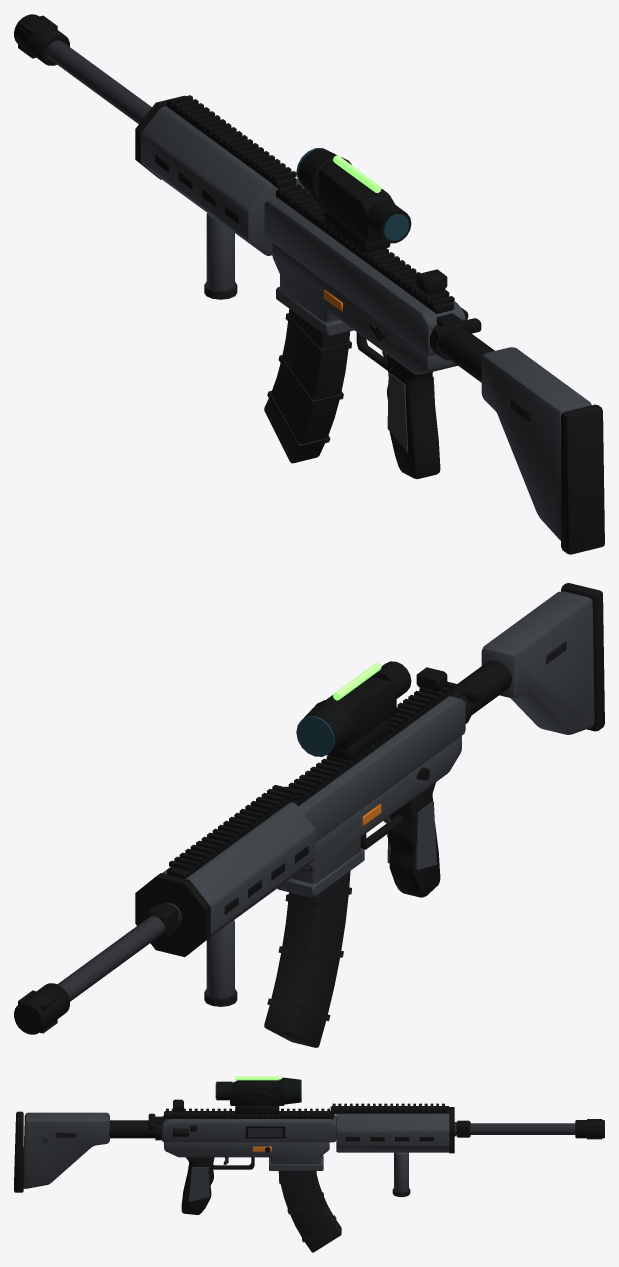
Rendered from gun_36.glb.
3 views of the same model, one above another, from view 1: azimuth 30°, elevation 25°; view 2: azimuth 150°, elevation 25°; view 3: azimuth 270°, elevation 25° (orthographic). The views are drawn at different scales.
Visible parts, largest first — view 1: gun_36; view 2: gun_36; view 3: gun_36.
Boxes of the visible parts, x1,y1,x2,y2 form: gun_36: (14, 14, 604, 554); gun_36: (14, 583, 604, 1047); gun_36: (14, 1076, 604, 1252).
Bounding box in the file's own units: 0.0786 × 0.349 × 1.08.
